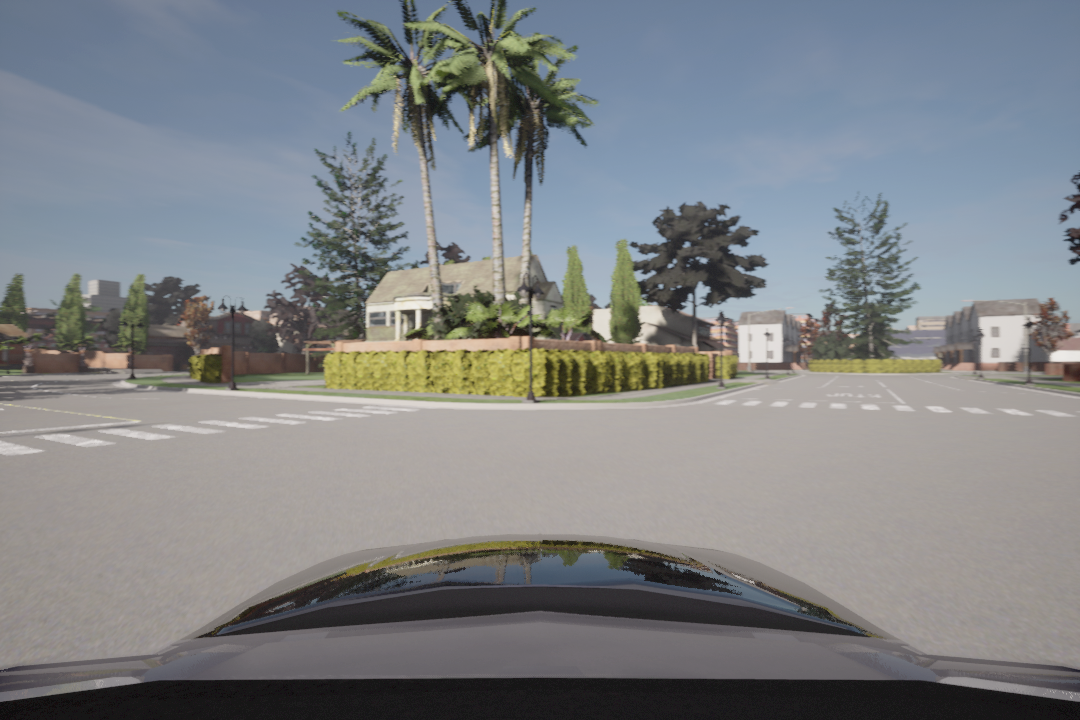walkside: (1, 405, 452, 464), (710, 393, 1077, 422)
